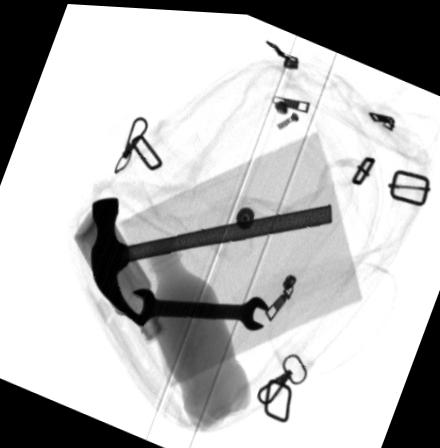Hammer: (89, 196, 332, 325)
Wrench: (130, 286, 270, 326)
